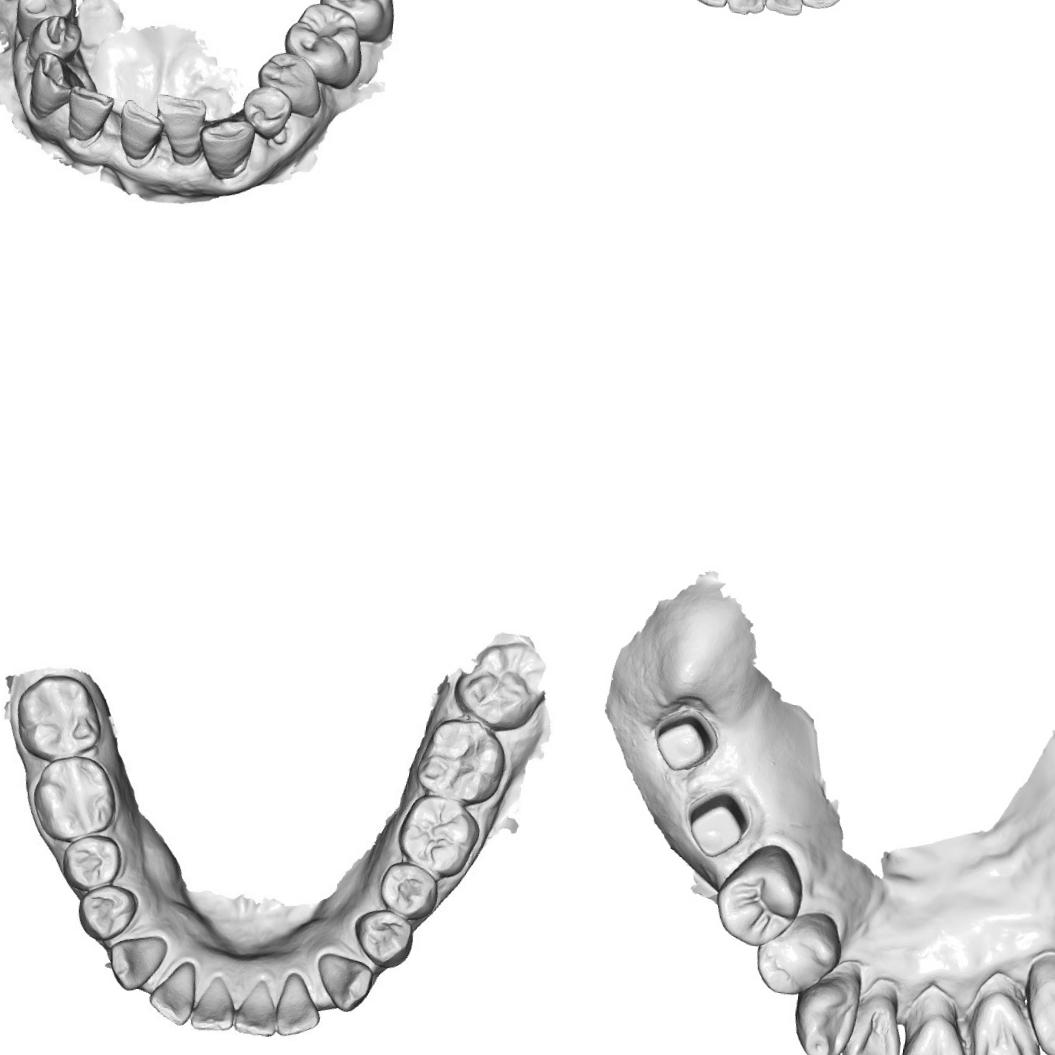abutment: (682, 781, 752, 863), (649, 702, 724, 777)
canine: (789, 971, 858, 1055), (314, 950, 380, 1014), (105, 929, 164, 994), (28, 54, 80, 115), (243, 87, 296, 143)
incisor: (968, 990, 1052, 1055), (152, 93, 214, 171), (839, 989, 906, 1055), (144, 958, 197, 1030), (198, 119, 256, 184), (897, 1011, 982, 1055), (274, 970, 324, 1044), (115, 99, 166, 168), (1021, 960, 1055, 1055), (64, 84, 114, 148), (235, 976, 284, 1040), (188, 972, 236, 1036), (762, 0, 811, 17), (725, 0, 768, 18)
molar: (454, 635, 548, 729), (416, 711, 511, 803), (12, 670, 105, 760), (32, 750, 122, 840), (396, 785, 484, 877), (282, 0, 364, 83)
premolar: (714, 847, 804, 951), (750, 912, 846, 1003), (59, 829, 130, 895), (379, 859, 442, 922), (263, 52, 325, 116), (75, 881, 142, 940), (353, 906, 417, 967), (33, 10, 85, 62), (16, 0, 73, 33)
